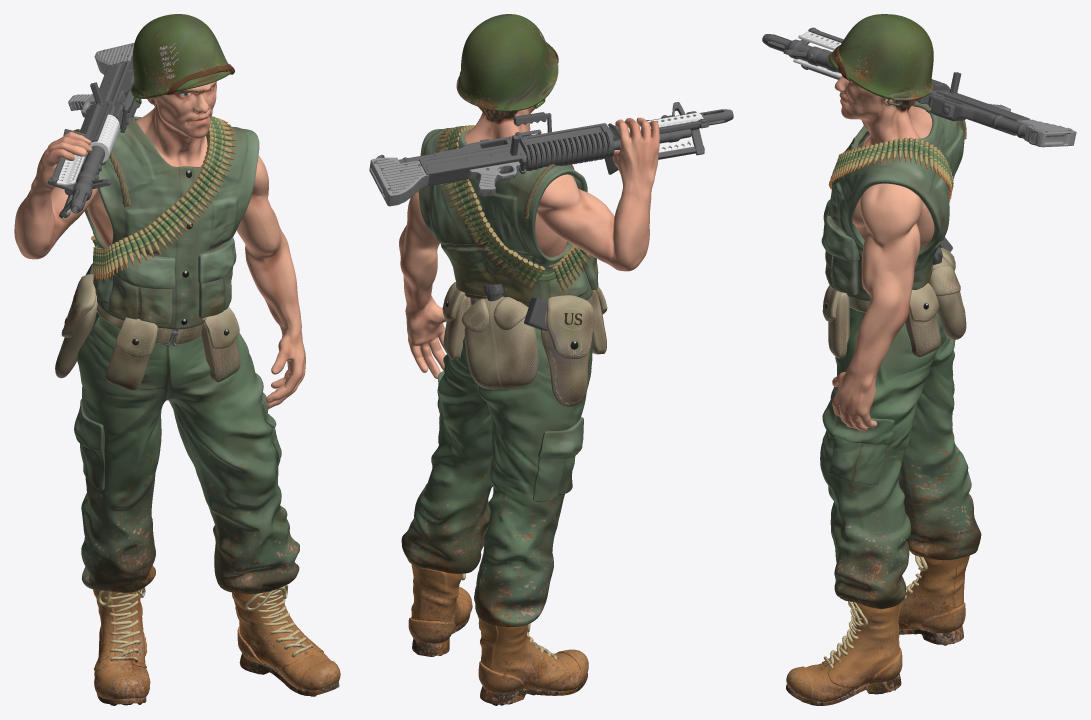
The model's file is us_marine_-_vietnam_1960s_-_free_download.glb.
3 views of the same model, side by side, from view 1: azimuth 30°, elevation 25°; view 2: azimuth 150°, elevation 25°; view 3: azimuth 270°, elevation 25° (orthographic). The views are drawn at different scales.
Visible parts, largest first — view 1: Trousers1, Jacket_03, BBody_3, Boot_02, Pouches_12, Vietnam_fig_72_fbx, Helmet2, Bullets; view 2: Trousers1, BBody_3, Pouches_12, Jacket_03, Vietnam_fig_72_fbx, Boot_02, Helmet2, Bullets; view 3: Trousers1, BBody_3, Boot_02, Jacket_03, Helmet2, Vietnam_fig_72_fbx, Pouches_12, Bullets.
Boxes of the visible parts, x1,y1,x2,y2 form: Trousers1: (74,312,299,594); Jacket_03: (74,116,259,329); BBody_3: (14,81,305,408); Boot_02: (93,585,340,705); Pouches_12: (55,264,240,390); Vietnam_fig_72_fbx: (47,42,140,217); Helmet2: (131,14,234,103); Bullets: (91,116,236,279); Trousers1: (401,328,593,627); BBody_3: (399,104,659,378); Pouches_12: (442,282,607,406); Jacket_03: (419,128,598,306); Vietnam_fig_72_fbx: (369,102,733,206); Boot_02: (408,564,588,705); Helmet2: (456,14,558,111); Bullets: (436,125,591,291); Trousers1: (820,307,981,608); BBody_3: (832,76,934,431); Boot_02: (786,555,969,705); Jacket_03: (821,101,966,300); Helmet2: (828,14,933,105); Vietnam_fig_72_fbx: (762,27,1076,147); Pouches_12: (822,237,966,358); Bullets: (828,137,953,202).
Size of the model in its own units: 63.73 by 139 by 62.57.
Materials: 14 (6 with a texture image).
